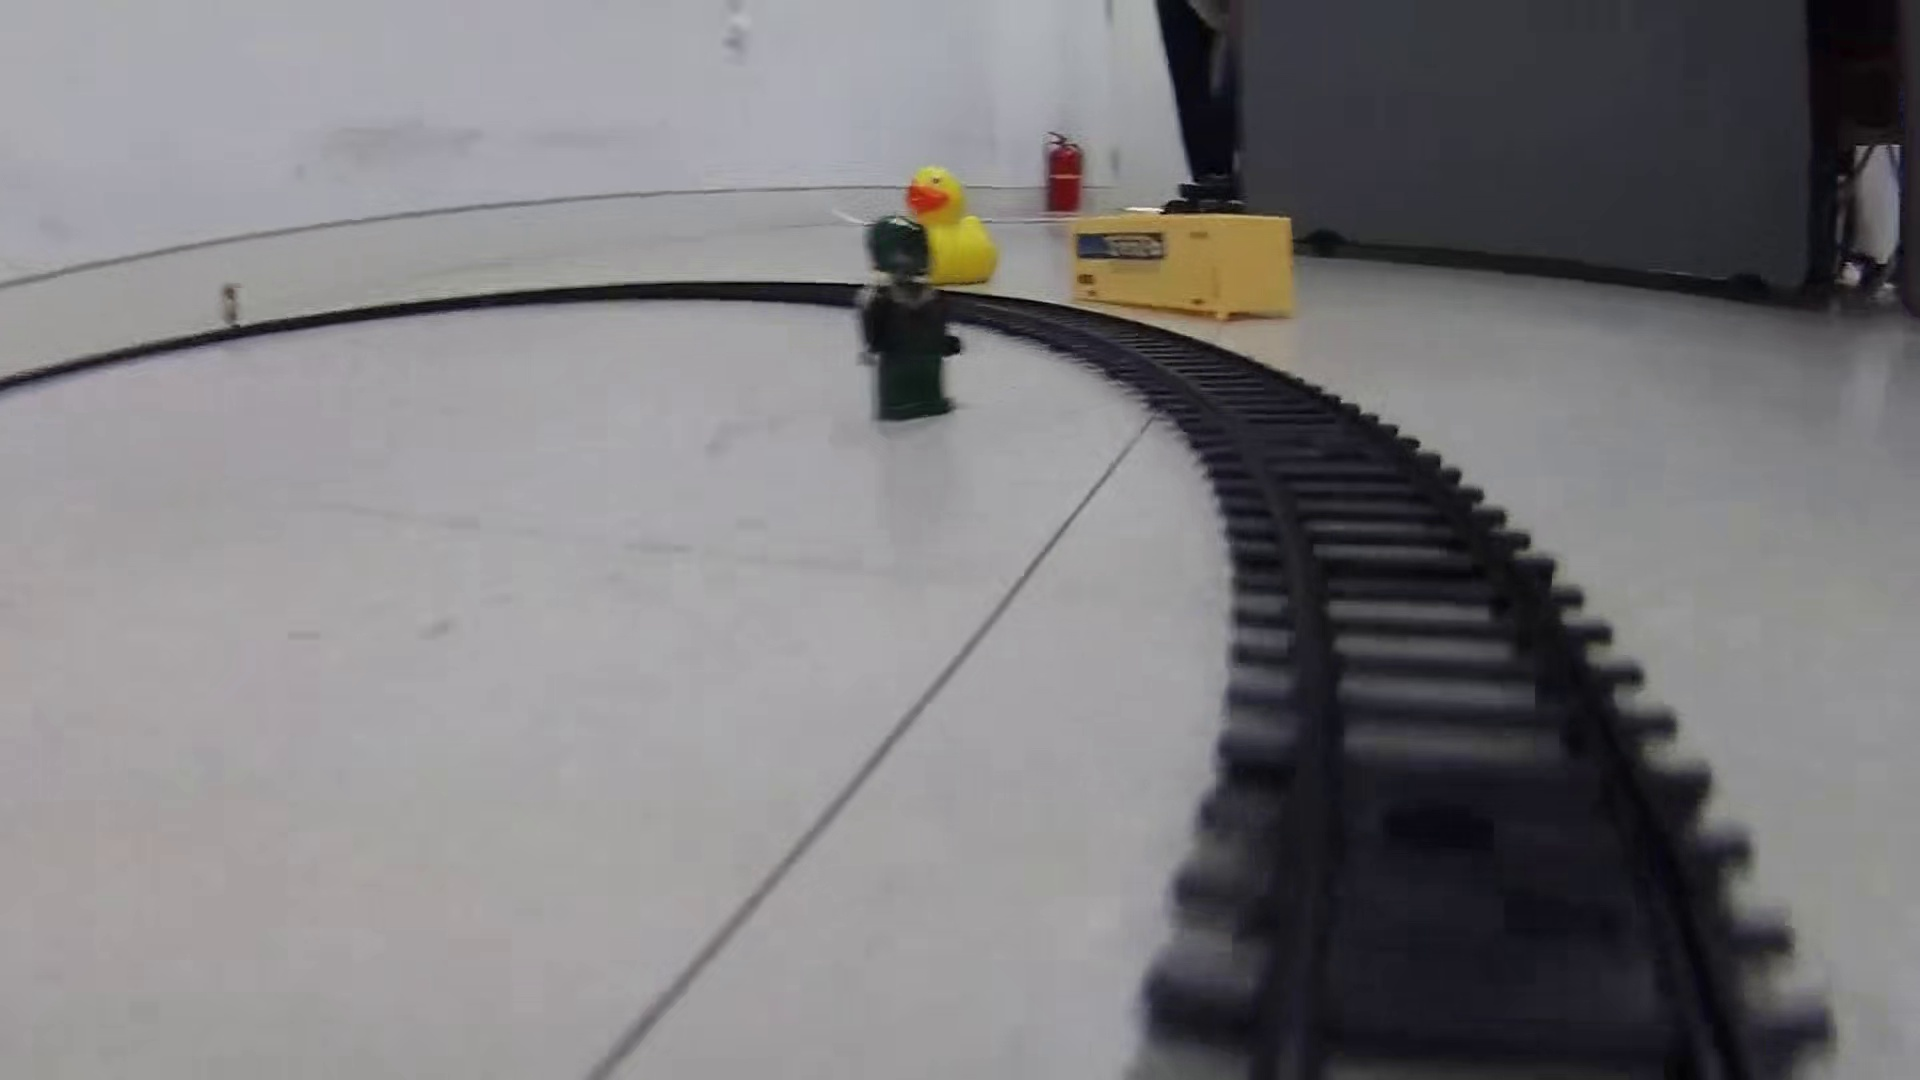people: (855, 212, 966, 428)
